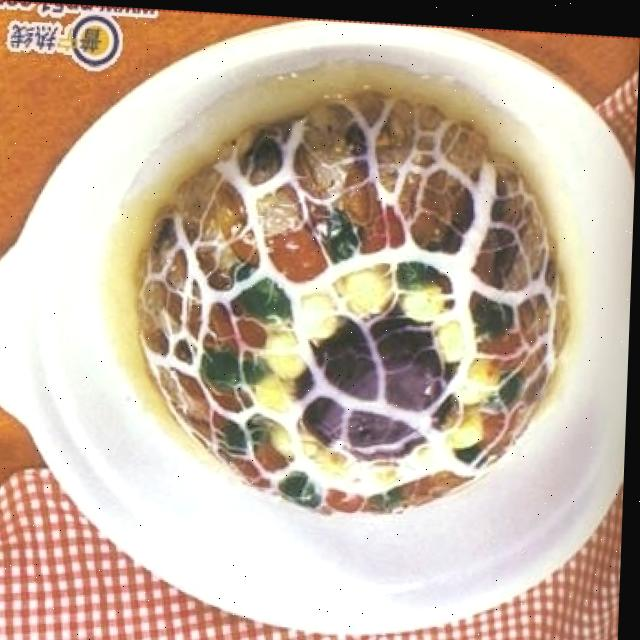米饭主食: (59, 38, 621, 609)
